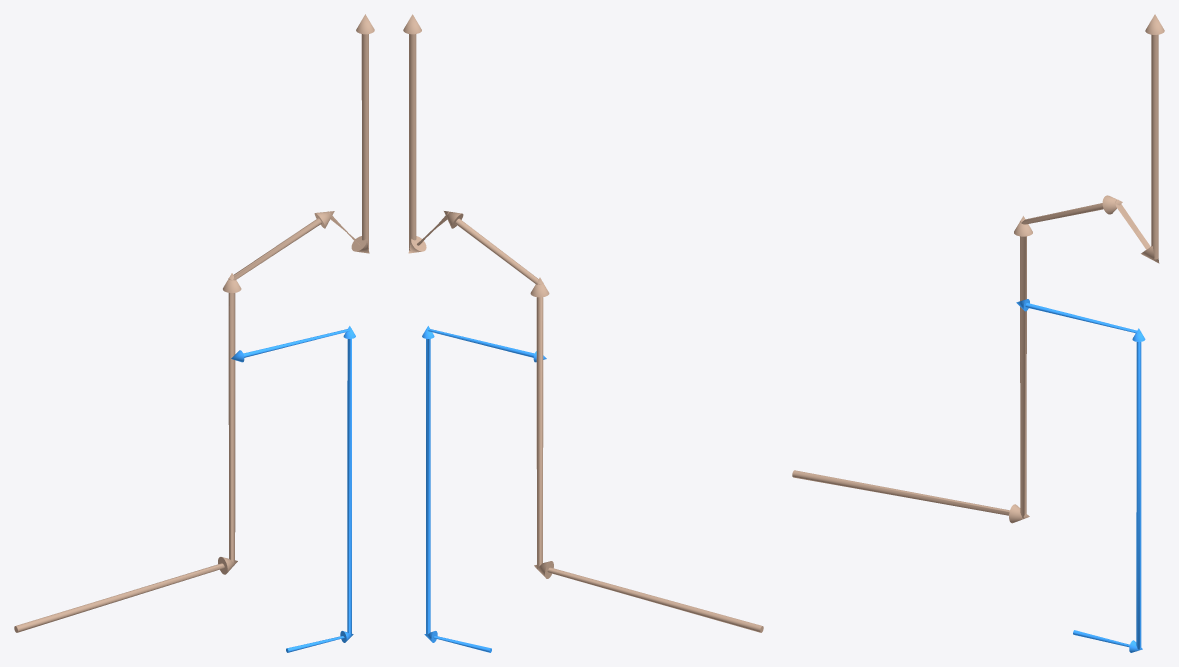
Rendered from gas_scrubbing_system_flow.glb.
3 views of the same model, side by side, from view 1: azimuth 30°, elevation 25°; view 2: azimuth 150°, elevation 25°; view 3: azimuth 330°, elevation 25° (orthographic). The views are drawn at different scales.
Visible parts, largest first — view 1: gas, liquor; view 2: gas, liquor; view 3: gas, liquor.
Part boxes in pixels (x1,y1,x2,y2): gas: (14,14,374,632); liquor: (231,326,355,652); gas: (403,14,763,632); liquor: (422,326,546,652); gas: (792,14,1164,523); liquor: (1016,299,1145,652).
Size of the model in its own units: 3.43 by 5.71 by 0.206.
